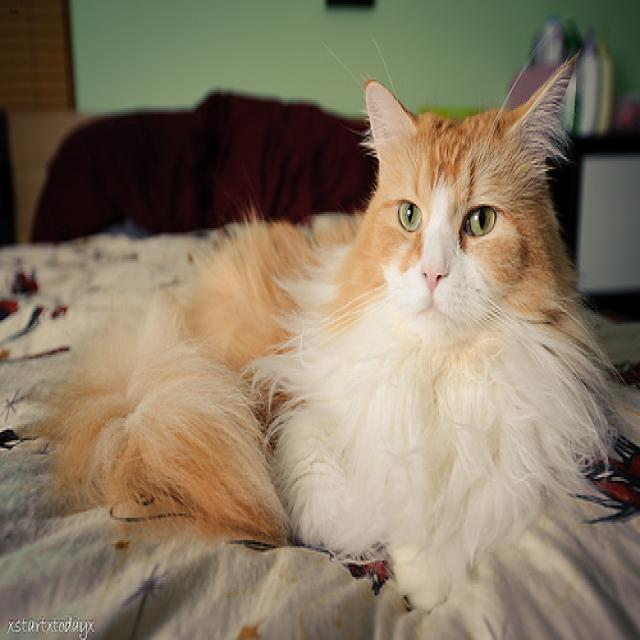Maine_Coon: (356, 49, 580, 402)
